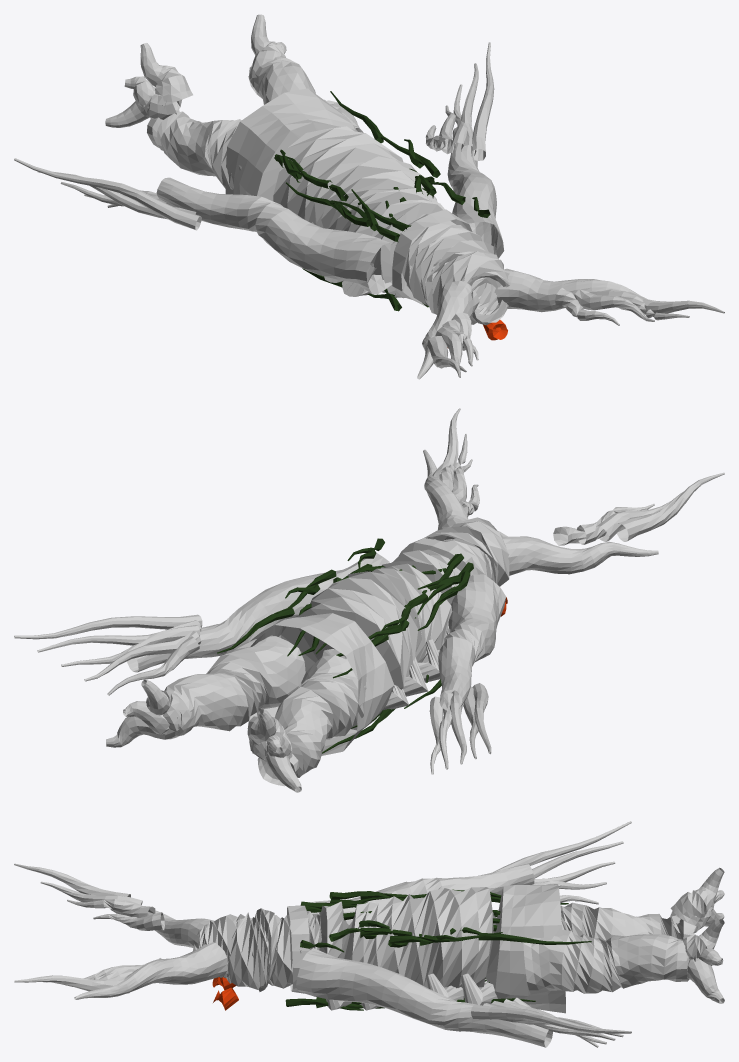
File: SM_Leshy_1348_v01.obj
3 views of the same model, one above another, from view 1: azimuth 30°, elevation 25°; view 2: azimuth 150°, elevation 25°; view 3: azimuth 270°, elevation 25° (orthographic). The views are drawn at different scales.
Visible parts, largest first — view 1: torso, arm_left, head, leg_left, arm_right, antler_right, leg_right, finger_-1_4, neck, antler_left, root_toe_-1_0, root_toe_-1_2 (+10 smaller); view 2: torso, leg_right, leg_left, arm_left, arm_right, antler_left, head, finger_1_4, antler_right, antler_branch_-1_3, root_toe_1_0, root_toe_1_2 (+14 smaller); view 3: torso, leg_right, arm_right, head, antler_right, leg_left, arm_left, neck, finger_1_4, root_toe_-1_0, antler_left, root_toe_1_2 (+15 smaller).
Boxes of the visible parts, x1,y1,x2,y2 form: torso: (225, 88, 472, 306); arm_left: (156, 177, 395, 294); head: (421, 227, 509, 325); leg_left: (147, 110, 241, 189); arm_right: (447, 127, 504, 258); antler_right: (497, 268, 671, 312); leg_right: (249, 56, 363, 132); finger_-1_4: (14, 158, 201, 230); neck: (390, 214, 486, 305); antler_left: (417, 280, 479, 379); root_toe_-1_0: (140, 43, 192, 105); root_toe_-1_2: (105, 93, 179, 127); torso: (249, 538, 477, 755); leg_right: (164, 635, 305, 739); leg_left: (257, 655, 366, 786); arm_left: (438, 574, 506, 710); arm_right: (127, 553, 389, 672); antler_left: (502, 536, 658, 575); head: (424, 517, 509, 586); finger_1_4: (14, 614, 202, 639); antler_right: (423, 449, 468, 530); antler_branch_-1_3: (617, 472, 724, 541); root_toe_1_0: (141, 679, 191, 731); root_toe_1_2: (106, 716, 185, 747); torso: (287, 884, 565, 1013); leg_right: (523, 930, 695, 994); arm_right: (296, 948, 552, 1047); head: (193, 908, 277, 991); antler_right: (74, 942, 227, 999); leg_left: (560, 902, 694, 940); arm_left: (311, 863, 534, 924); neck: (249, 911, 321, 988); finger_1_4: (471, 1004, 631, 1033); root_toe_-1_0: (670, 867, 724, 927); antler_left: (110, 908, 214, 948); root_toe_1_2: (687, 958, 724, 1003).
Bounding box in the file's own units: 303 × 79.45 × 431.
